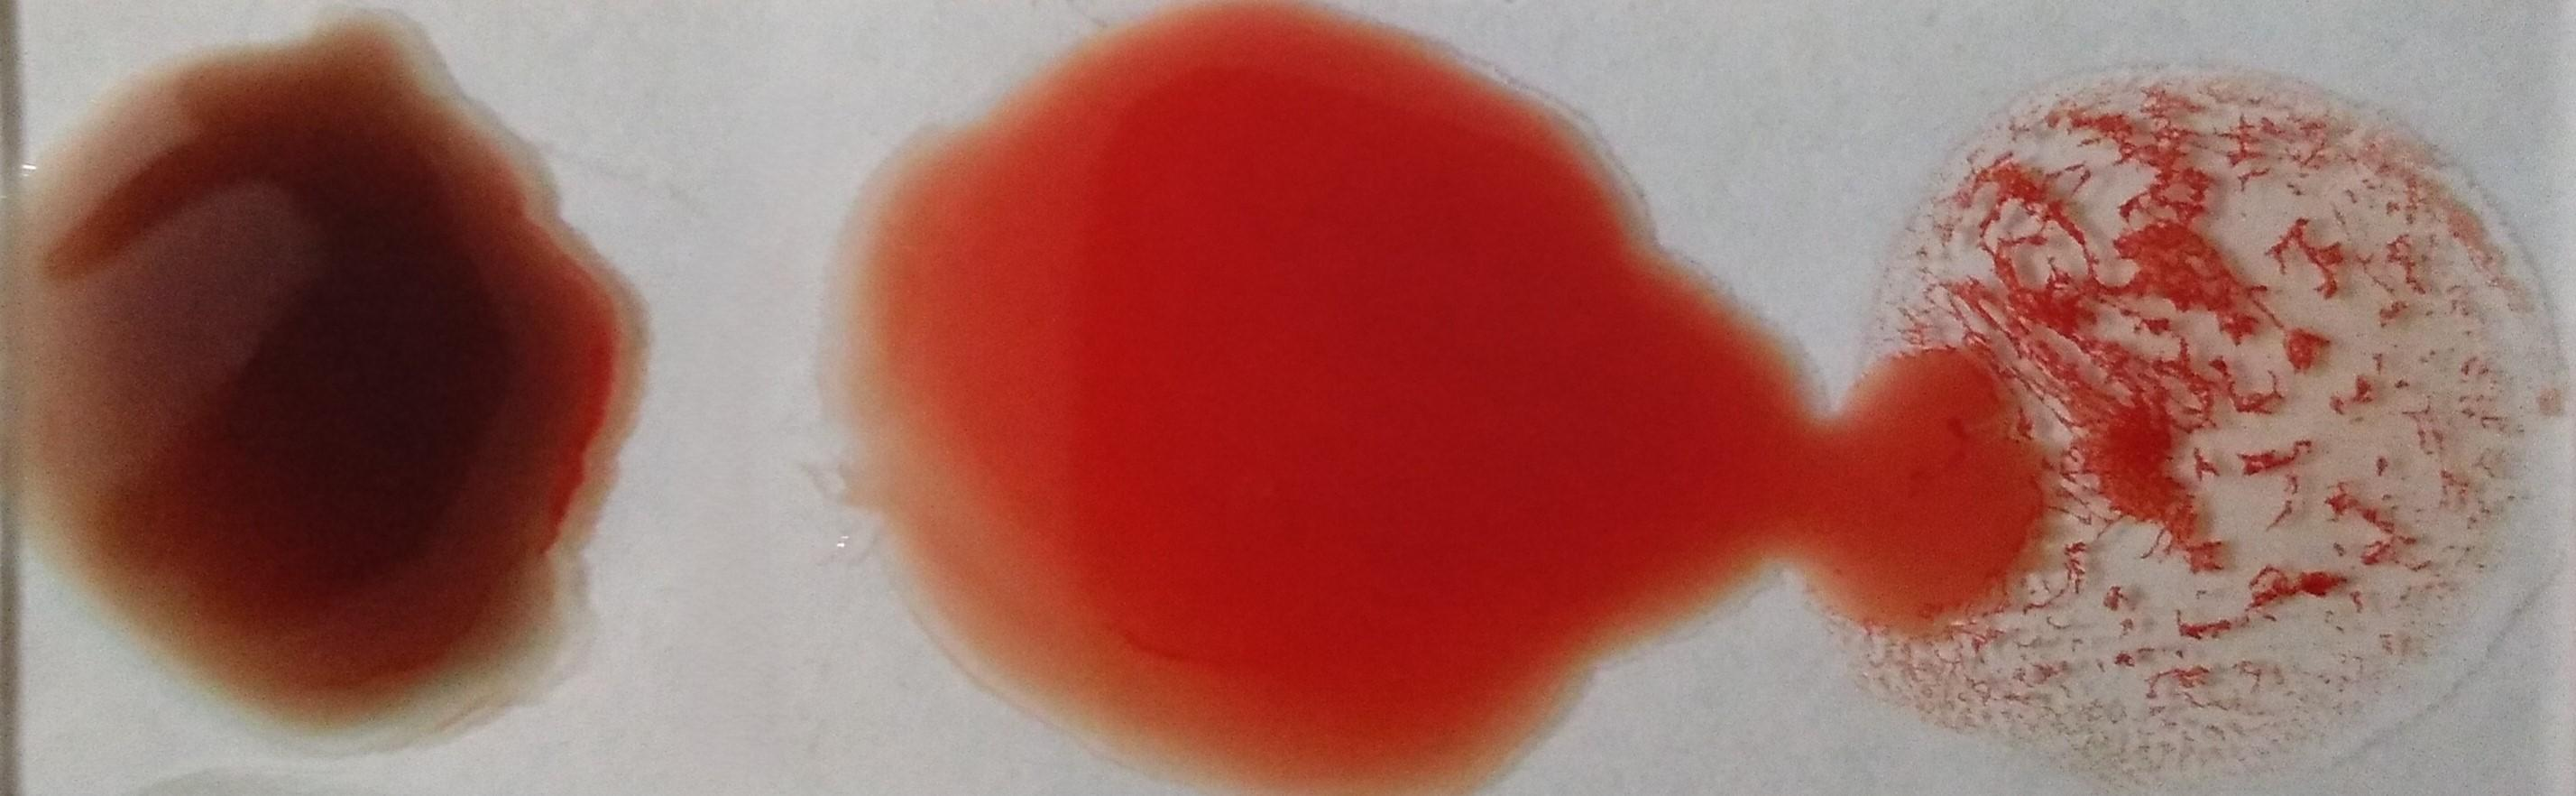D: (1889, 94, 2535, 784)
